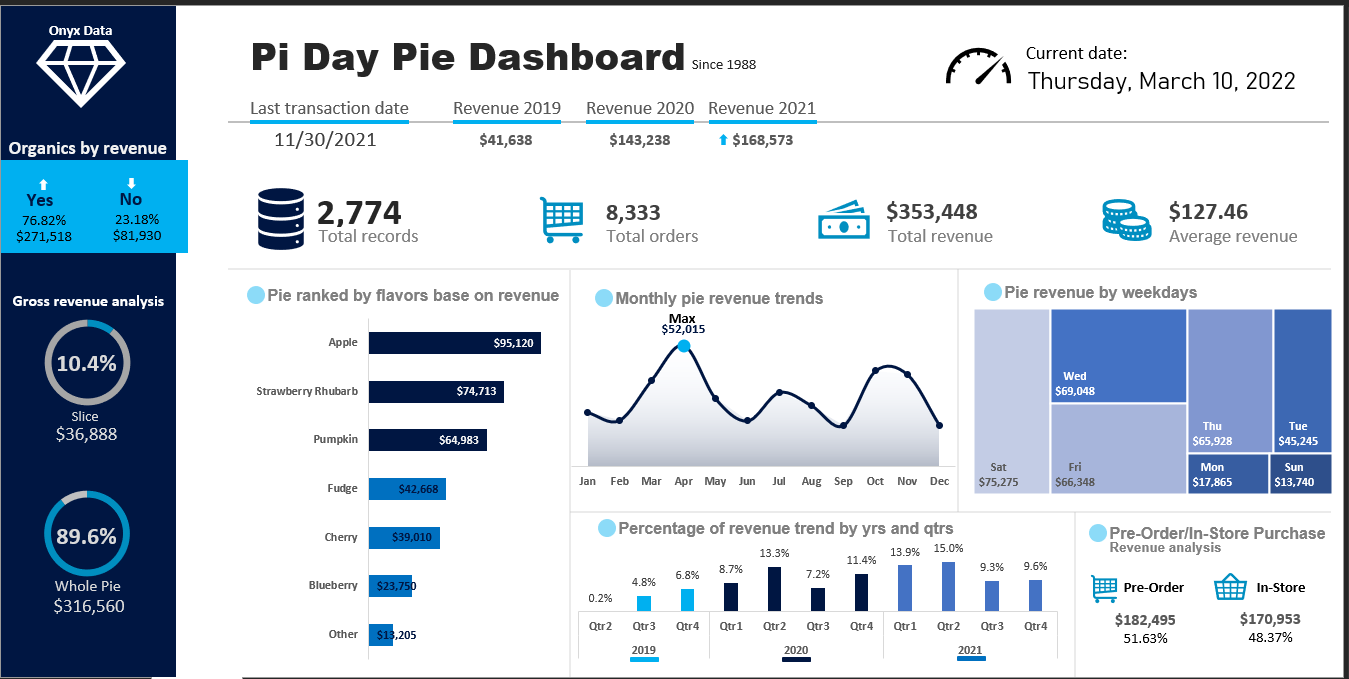

The dashboard page shown, as its layout file describes it:
{"tool":"powerbi","page":{"name":"Overview","canvas":[1280,720],"ordinal":0},"visuals":[{"type":"card","fields":{"Values":["Measure Table.First transaction date"]},"box":[254.8,140.1,112.8,29.2],"z":0},{"type":"textbox","box":[225.7,97.3,178,35],"z":1000},{"type":"textbox","box":[416.3,97.3,178,35],"z":2000},{"type":"textbox","box":[605,97.3,178,35],"z":3000},{"type":"card","fields":{"Values":["Measure Table.Revenue 2020"]},"box":[437.7,135.2,130.3,37.9],"z":4000},{"type":"card","fields":{"Values":["Measure Table.Revenue 2021"]},"box":[623.5,135.2,130.3,37.9],"z":5000},{"type":"card","fields":{"Values":["Measure Table.Today"]},"box":[1024.2,59.3,132.3,37.9],"z":6000},{"type":"textbox","box":[254.8,322.9,236.4,33.1],"z":7000},{"type":"textbox","box":[688.6,322.9,236.4,33.1],"z":8000},{"type":"shape","box":[242.2,333.6,12.6,11.7],"z":9000},{"type":"shape","box":[676,333.6,12.6,11.7],"z":10000},{"type":"barChart","fields":{"Y":["Measure Table.Total revenue"],"Category":["Dim_Pie_Flavor.Pie Flavor"]},"box":[170.2,349.1,378.9,355.8],"z":11000},{"type":"card","fields":{"Values":["Measure Table.Total revenue"]},"box":[823.8,218.8,121.6,29.2],"z":12000},{"type":"card","fields":{"Values":["Measure Table.Average reveue"]},"box":[1109.8,218.8,121.6,29.2],"z":13000},{"type":"card","fields":{"Values":["Measure Table.Total transactions"]},"box":[250,218.8,121.6,29.2],"z":14000},{"type":"card","fields":{"Values":["Measure Table.Total order"]},"box":[533,218.8,121.6,29.2],"z":15000},{"type":"lineChart","fields":{"Category":["Calendar.Month"],"Y":["Measure Table.Total revenue"]},"box":[568.4,355.8,470.3,208.7],"z":16000},{"type":"textbox","box":[1130.9,331.8,149.1,34.6],"z":17000},{"type":"shape","box":[1118.8,339.7,12.6,11.7],"z":18000},{"type":"donutChart","fields":{"Category":["Dim_Organic.Organic?"],"Y":["Sum(FactTable.revenue)"]},"box":[1027.1,359.7,181.8,148.1],"z":19000},{"type":"textbox","box":[1219.4,368.3,47.1,29.8],"z":20000},{"type":"shape","box":[1206.9,377.9,12.5,11.5],"z":21000},{"type":"textbox","box":[1222.3,433.7,42.3,29.8],"z":22000},{"type":"shape","box":[1206.9,443.3,12.5,11.5],"z":23000},{"type":"card","fields":{"Values":["Measure Table.Yes organic"]},"box":[1198.3,395.3,66.4,30.8],"z":24000},{"type":"card","fields":{"Values":["Measure Table.No organic"]},"box":[1204,457.8,66.4,30.8],"z":25000},{"type":"donutChart","fields":{"Y":["Measure Table.Total order"],"Category":["Dim_PieTypes.Slice Or Whole Pie"]},"box":[549.1,579.9,243.3,140.4],"z":26000},{"type":"textbox","box":[796.3,585.7,197.1,29.8],"z":27000},{"type":"shape","box":[783.8,595.3,12.5,11.5],"z":28000},{"type":"shape","box":[792.4,628.9,12.5,11.5],"z":29000},{"type":"shape","box":[897.3,628.9,12.5,11.5],"z":30000},{"type":"card","fields":{"Values":["Measure Table.Whole ordered"]},"box":[796.3,640.5,66.4,30.8],"z":31000},{"type":"card","fields":{"Values":["Measure Table.Slice ordered"]},"box":[897.3,640.5,66.4,30.8],"z":32000},{"type":"textbox","box":[1109.8,554.9,170.2,30.8],"z":33000},{"type":"shape","box":[1097.3,566.4,12.5,11.5],"z":34000},{"type":"textbox","box":[806.9,619.3,63.5,29.8],"z":35000},{"type":"textbox","box":[909.8,619.3,63.5,29.8],"z":36000},{"type":"textbox","box":[1061.7,634.7,71.2,29.8],"z":37000},{"type":"textbox","box":[1195.4,634.7,63.5,29.8],"z":38000},{"type":"card","fields":{"Values":["Measure Table.Pre order"]},"box":[1063.6,664.5,66.4,30.8],"z":39000},{"type":"card","fields":{"Values":["Measure Table.In Store"]},"box":[1193.4,655.9,66.4,30.8],"z":40000},{"type":"card","fields":{"Values":["Measure Table.% Whole pie"]},"box":[797.6,665.9,66.4,30.8],"z":41000},{"type":"card","fields":{"Values":["Measure Table.% Slice pie"]},"box":[898.6,665.9,66.4,30.8],"z":42000},{"type":"shape","box":[202,267.3,1045.3,77.9],"z":43000},{"type":"shape","box":[575.1,549.1,452,56.7],"z":44000},{"type":"shape","box":[1061.7,517.4,204.8,37.5],"z":45000},{"type":"pageNavigator","box":[945.3,144.3,273.1,28.9],"z":46000},{"type":"textbox","box":[0,153.9,170.2,120.2],"z":47000},{"type":"actionButton","box":[0,140.4,170.2,133.7],"z":48000},{"type":"slicer","fields":{"Values":["Calendar.Year"]},"box":[4.8,304.9,141.4,57.7],"z":49000},{"type":"slicer","fields":{"Values":["Dim_PieTypes.Slice Or Whole Pie"]},"box":[10.6,534.7,130.8,161.6],"z":50000},{"type":"textbox","box":[13.5,283.7,80.8,25],"z":50001},{"type":"slicer","fields":{"Values":["Calendar.Month"]},"box":[6.2,378.3,141.4,57.7],"z":50002},{"type":"textbox","box":[14.8,357.2,80.8,25],"z":50003}]}

Visuals, with their boxes on the page's 1280x720 design canvas (x1, y1, x2, y2). These are canvas units, not pixel positions in the 1349x679 screenshot, which may show the page scaled, cropped or inside an application window:
card - Measure Table.First transaction date: region(255, 140, 368, 169)
textbox: region(226, 97, 404, 132)
textbox: region(416, 97, 594, 132)
textbox: region(605, 97, 783, 132)
card - Measure Table.Revenue 2020: region(438, 135, 568, 173)
card - Measure Table.Revenue 2021: region(624, 135, 754, 173)
card - Measure Table.Today: region(1024, 59, 1156, 97)
textbox: region(255, 323, 491, 356)
textbox: region(689, 323, 925, 356)
shape: region(242, 334, 255, 345)
shape: region(676, 334, 689, 345)
barChart - Measure Table.Total revenue x Dim_Pie_Flavor.Pie Flavor: region(170, 349, 549, 705)
card - Measure Table.Total revenue: region(824, 219, 945, 248)
card - Measure Table.Average reveue: region(1110, 219, 1231, 248)
card - Measure Table.Total transactions: region(250, 219, 372, 248)
card - Measure Table.Total order: region(533, 219, 655, 248)
lineChart - Calendar.Month x Measure Table.Total revenue: region(568, 356, 1039, 564)
textbox: region(1131, 332, 1280, 366)
shape: region(1119, 340, 1131, 351)
donutChart - Dim_Organic.Organic? x Sum(FactTable.revenue): region(1027, 360, 1209, 508)
textbox: region(1219, 368, 1266, 398)
shape: region(1207, 378, 1219, 389)
textbox: region(1222, 434, 1265, 464)
shape: region(1207, 443, 1219, 455)
card - Measure Table.Yes organic: region(1198, 395, 1265, 426)
card - Measure Table.No organic: region(1204, 458, 1270, 489)
donutChart - Measure Table.Total order x Dim_PieTypes.Slice Or Whole Pie: region(549, 580, 792, 720)
textbox: region(796, 586, 993, 616)
shape: region(784, 595, 796, 607)
shape: region(792, 629, 805, 640)
shape: region(897, 629, 910, 640)
card - Measure Table.Whole ordered: region(796, 640, 863, 671)
card - Measure Table.Slice ordered: region(897, 640, 964, 671)
textbox: region(1110, 555, 1280, 586)
shape: region(1097, 566, 1110, 578)
textbox: region(807, 619, 870, 649)
textbox: region(910, 619, 973, 649)
textbox: region(1062, 635, 1133, 664)
textbox: region(1195, 635, 1259, 664)
card - Measure Table.Pre order: region(1064, 664, 1130, 695)
card - Measure Table.In Store: region(1193, 656, 1260, 687)
card - Measure Table.% Whole pie: region(798, 666, 864, 697)
card - Measure Table.% Slice pie: region(899, 666, 965, 697)
shape: region(202, 267, 1247, 345)
shape: region(575, 549, 1027, 606)
shape: region(1062, 517, 1266, 555)
pageNavigator: region(945, 144, 1218, 173)
textbox: region(0, 154, 170, 274)
actionButton: region(0, 140, 170, 274)
slicer - Calendar.Year: region(5, 305, 146, 363)
slicer - Dim_PieTypes.Slice Or Whole Pie: region(11, 535, 141, 696)
textbox: region(14, 284, 94, 309)
slicer - Calendar.Month: region(6, 378, 148, 436)
textbox: region(15, 357, 96, 382)
